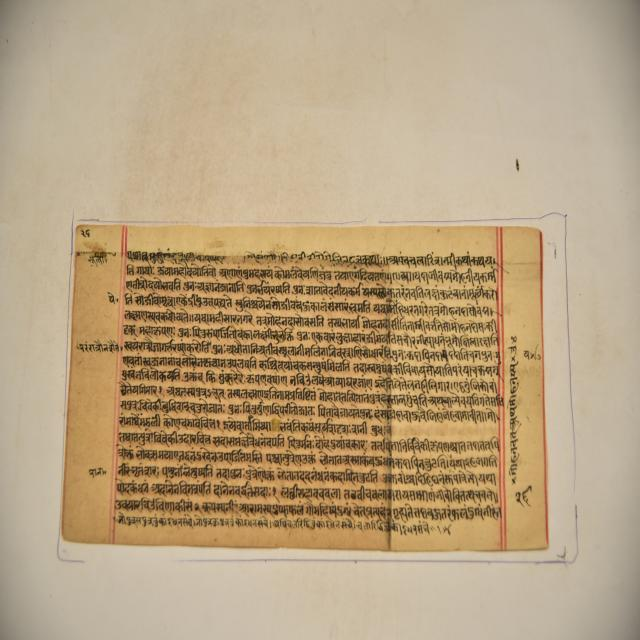text_paragraph: (58, 222, 547, 548)
